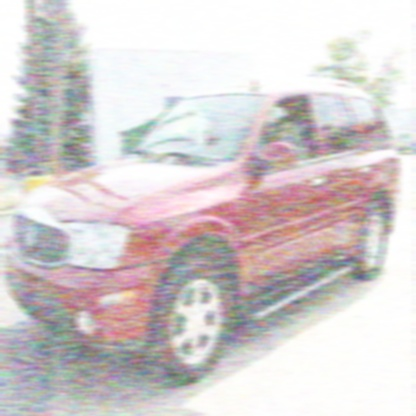Vehicle: (2, 79, 401, 387)
